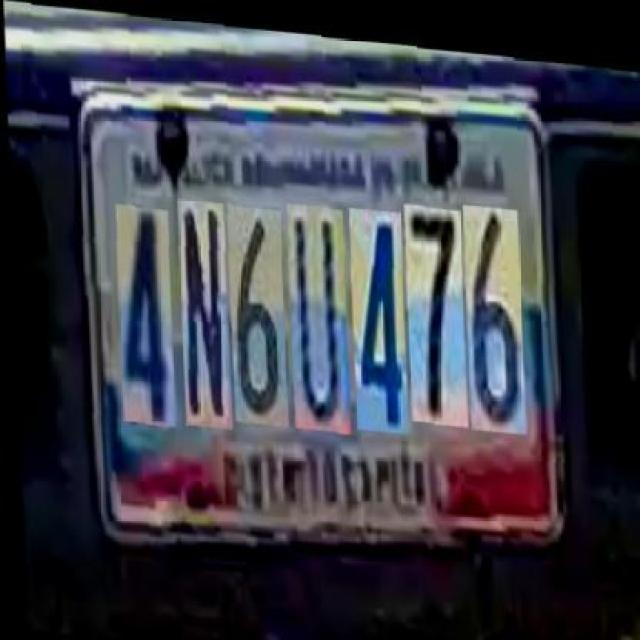4: (112, 202, 172, 423), (346, 197, 405, 421)
6: (460, 190, 522, 418), (224, 198, 284, 419)
7: (401, 191, 464, 412)
n: (174, 193, 228, 424)
u: (284, 194, 347, 423)
